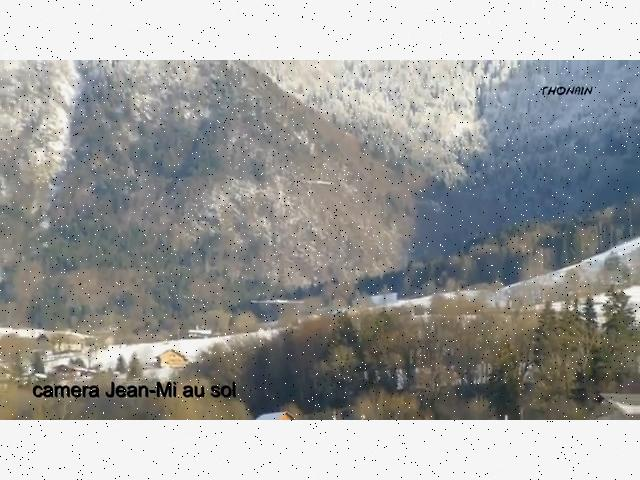Anti-Drone: (252, 299, 304, 304)
